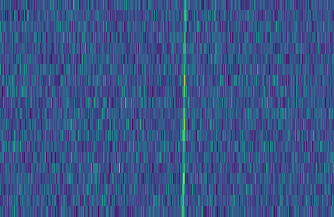signal: (178, 0, 189, 217)
